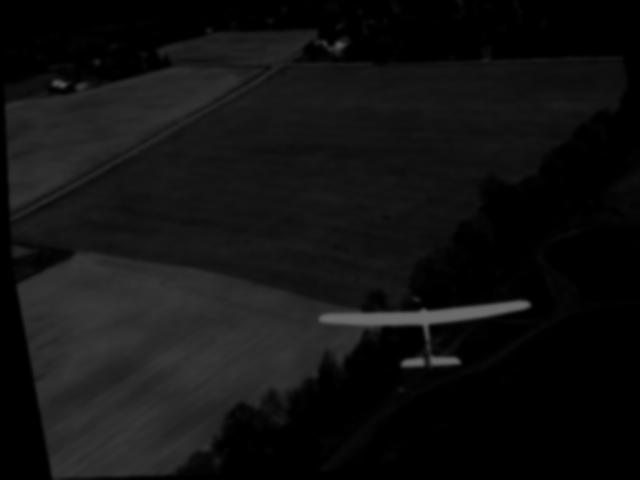hedef: (305, 266, 552, 402)
